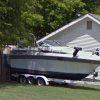Boat: (6, 31, 99, 90)
